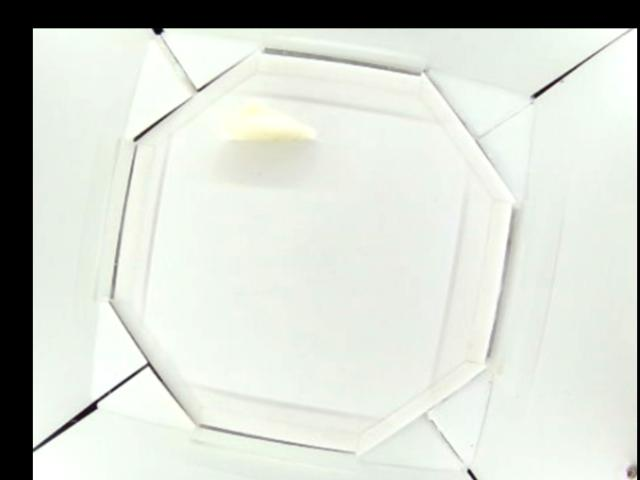Mooli: (222, 102, 316, 143)
